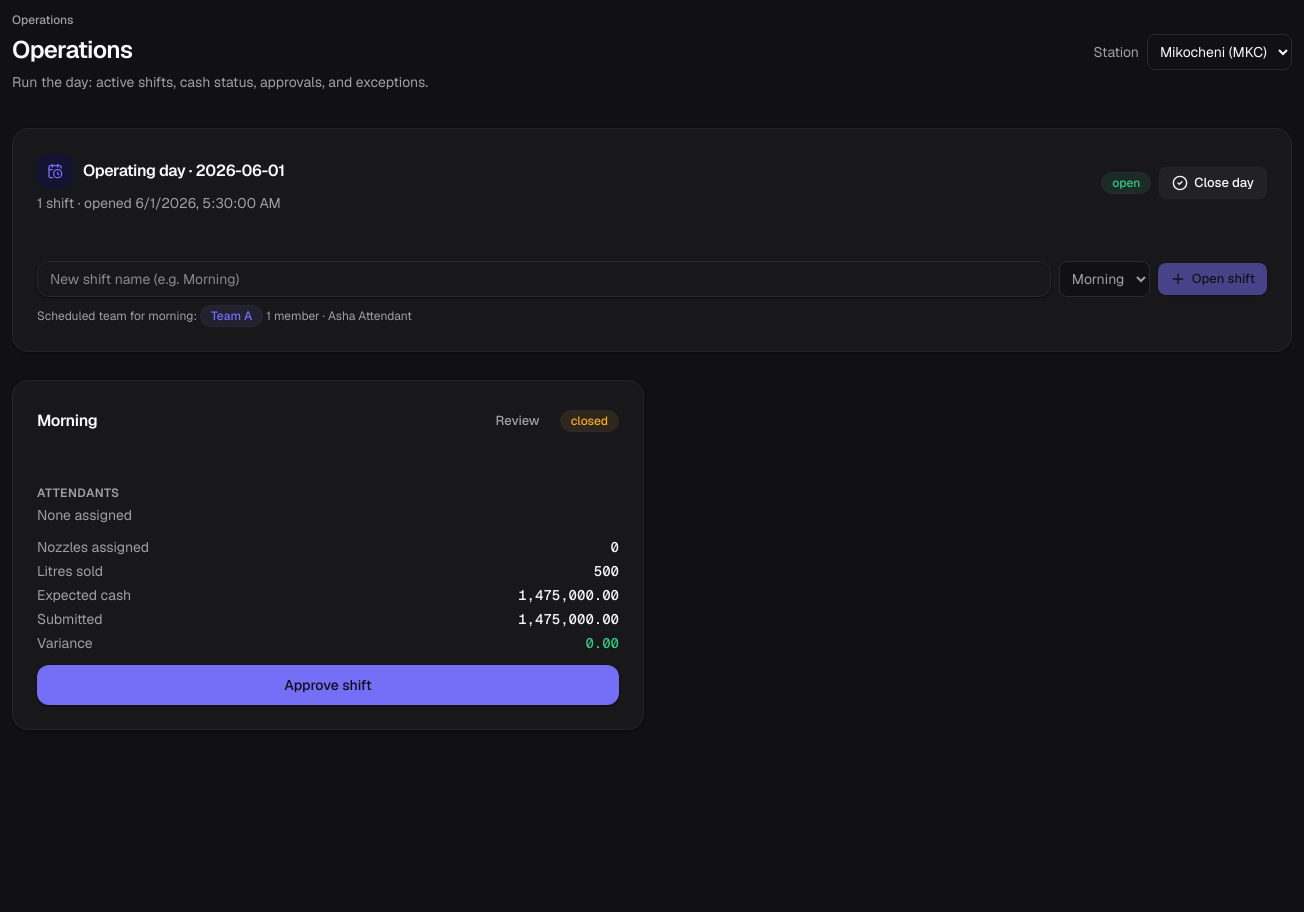
OperationsPage — Phase 5 supervisor gates › maps the approve 409 collection_unconfirmed gate onto a clear message
Click the button "Approve shift" at (328, 685), box [37, 665, 619, 705]
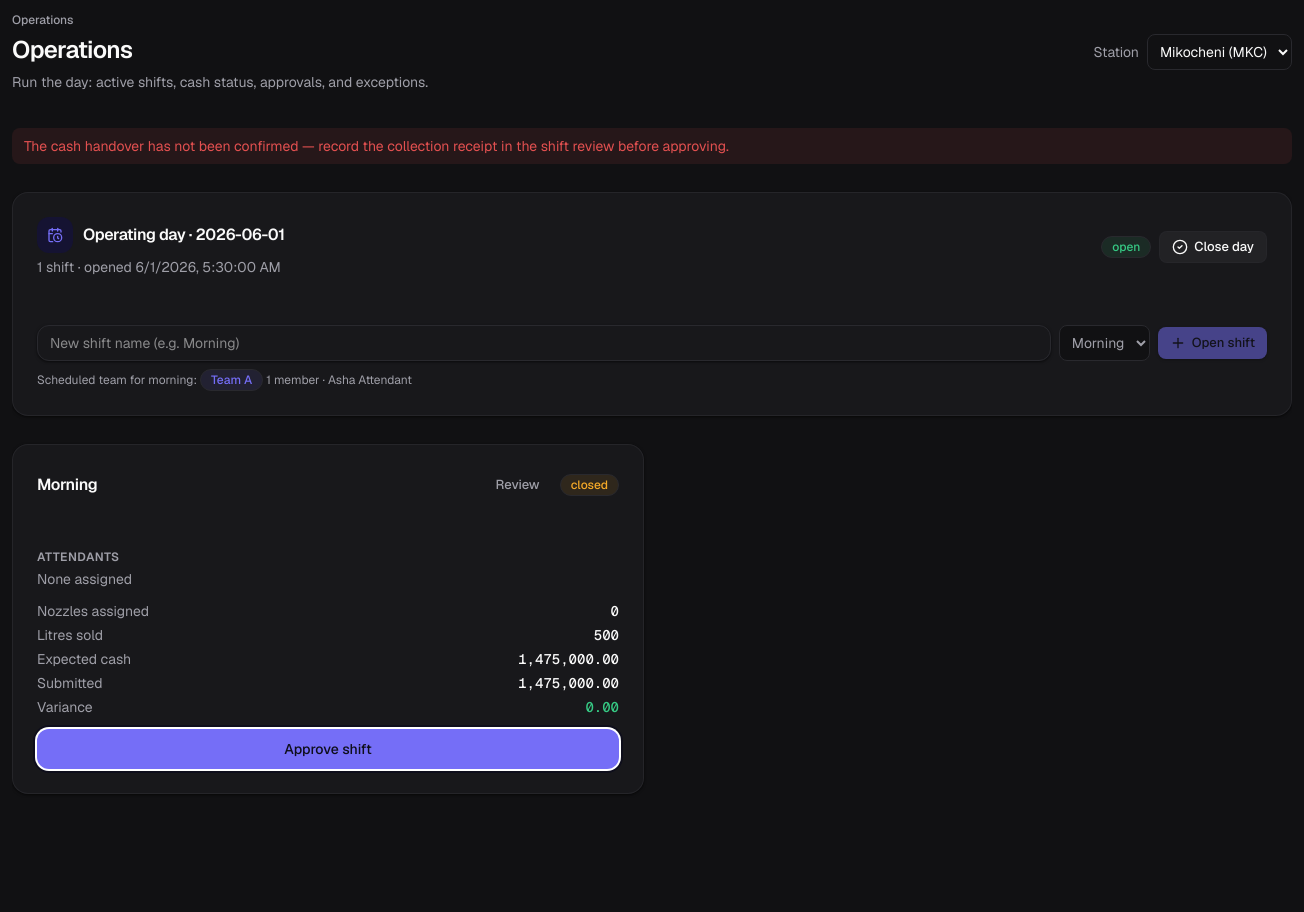
Now the text "cash handover has not been confirmed — record the collection" is shown, box [24, 137, 729, 155]
